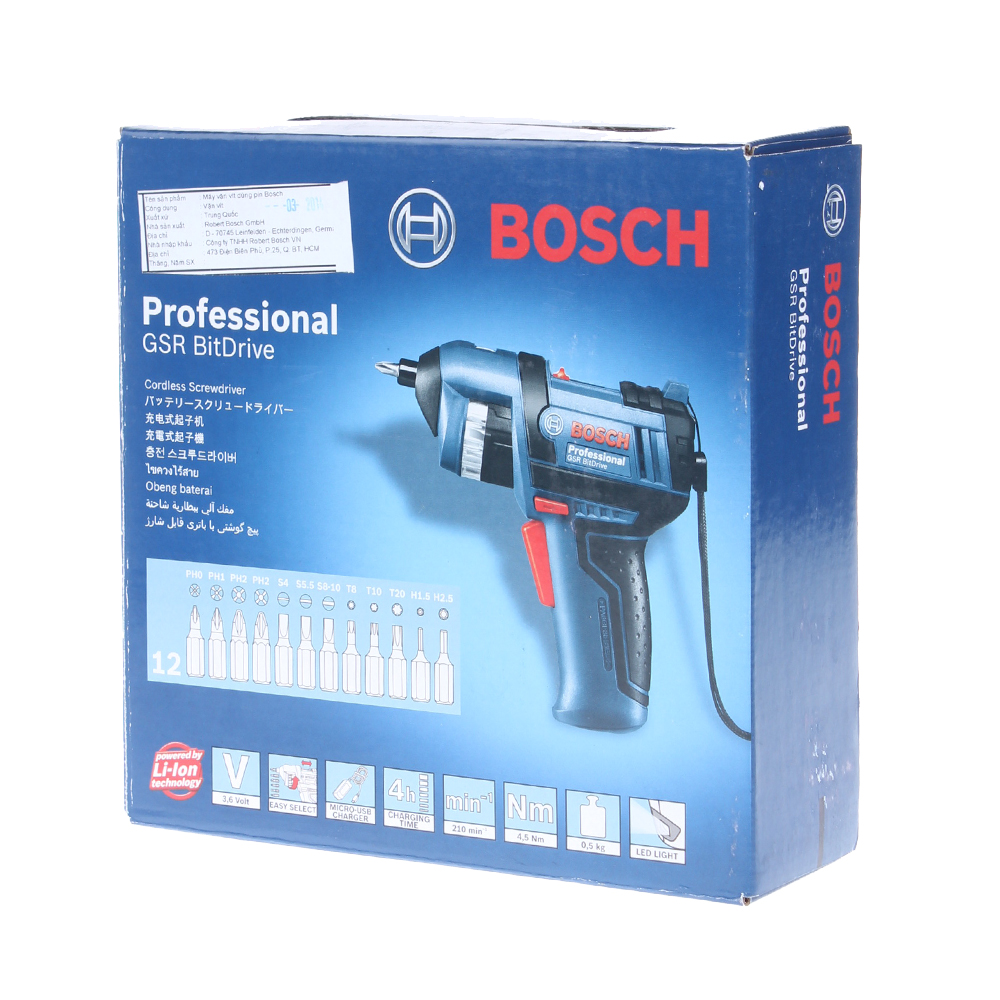Bosch: (480, 193, 716, 271), (818, 255, 845, 434)
